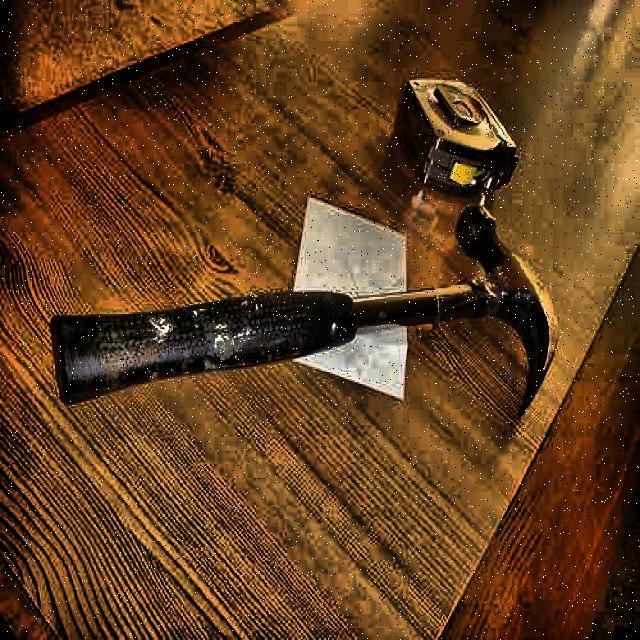hammer: (43, 204, 564, 434)
